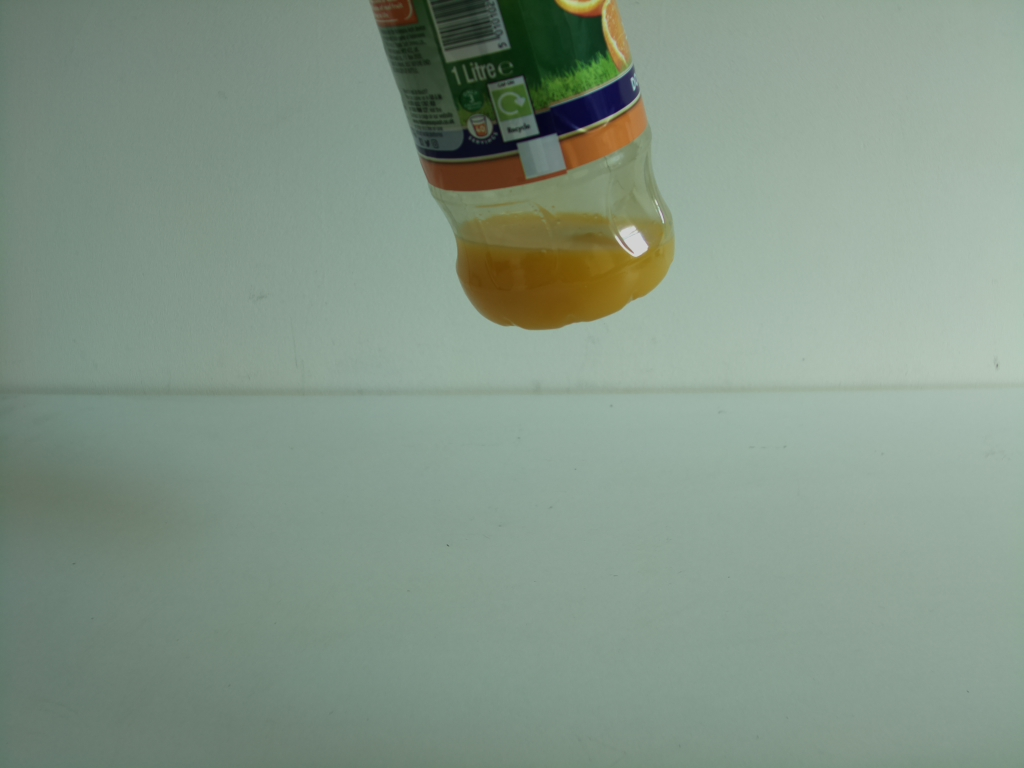juice: (368, 1, 680, 335)
